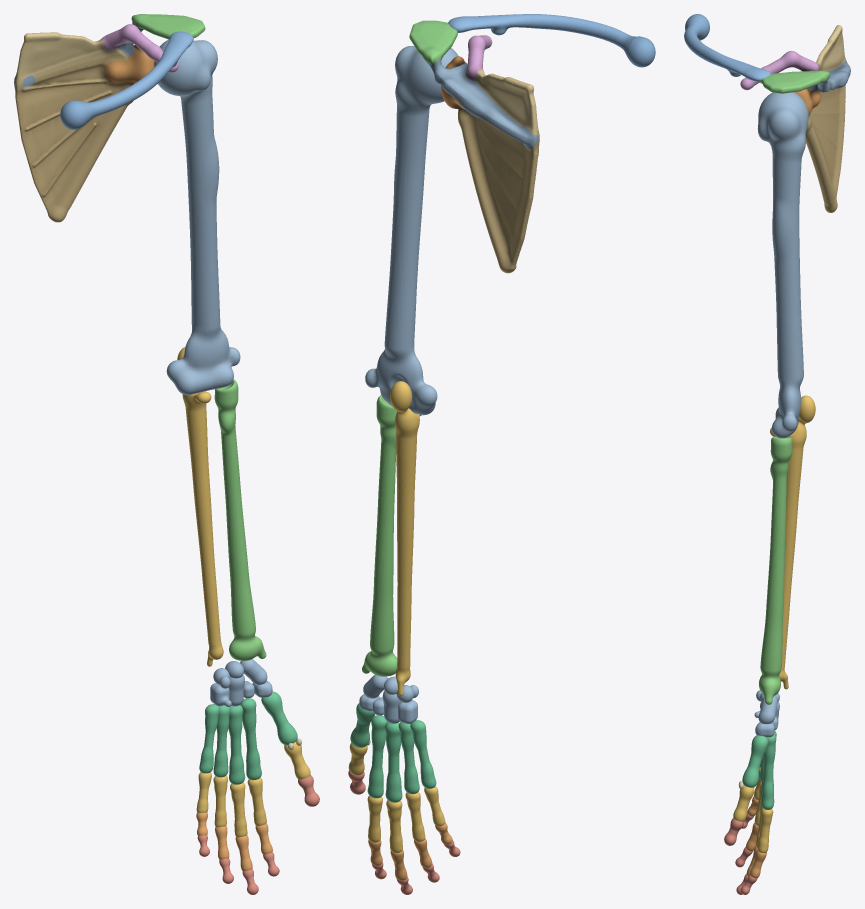
File: esqueleto-superior.glb
The picture shows the model from 3 angles, left to right: view 1: azimuth 30°, elevation 25°; view 2: azimuth 150°, elevation 25°; view 3: azimuth 270°, elevation 25°; orthographic projection. The views are drawn at different scales.
Parts seen in each view (by area): view 1: humerus_L, scapula_L_infraspinous_fossa, radius_L, ulna_L, scapula_L_supraspinous_fossa, clavicle_L, scapula_L_acromion, scapula_L_glenoid, scapula_L_coracoid, metacarpal_2_index_L, metacarpal_3_middle_L, metacarpal_1_thumb_L (+4 smaller); view 2: humerus_L, scapula_L_infraspinous_fossa, radius_L, ulna_L, clavicle_L, scapula_L_spine, scapula_L_supraspinous_fossa, scapula_L_acromion, metacarpal_2_index_L, metacarpal_3_middle_L, metacarpal_4_ring_L, metacarpal_5_little_L (+4 smaller); view 3: humerus_L, radius_L, scapula_L_infraspinous_fossa, ulna_L, clavicle_L, scapula_L_acromion, scapula_L_coracoid, scapula_L_supraspinous_fossa, metacarpal_2_index_L, metacarpal_1_thumb_L, scapula_L_spine, index_proximal_phalanx_L (+3 smaller).
Boxes of the visible parts, x1=… form: humerus_L: x1=154, y1=39, x2=240, y2=395; scapula_L_infraspinous_fossa: x1=14, y1=52, x2=132, y2=222; radius_L: x1=214, y1=379, x2=266, y2=660; ulna_L: x1=177, y1=347, x2=223, y2=666; scapula_L_supraspinous_fossa: x1=15, y1=32, x2=122, y2=85; clavicle_L: x1=60, y1=31, x2=193, y2=129; scapula_L_acromion: x1=131, y1=14, x2=205, y2=39; scapula_L_glenoid: x1=103, y1=45, x2=154, y2=85; scapula_L_coracoid: x1=101, y1=24, x2=178, y2=72; metacarpal_2_index_L: x1=240, y1=698, x2=261, y2=780; metacarpal_3_middle_L: x1=228, y1=705, x2=245, y2=784; metacarpal_1_thumb_L: x1=261, y1=691, x2=297, y2=745; humerus_L: x1=365, y1=46, x2=458, y2=415; scapula_L_infraspinous_fossa: x1=458, y1=107, x2=539, y2=273; radius_L: x1=362, y1=395, x2=397, y2=676; ulna_L: x1=390, y1=381, x2=421, y2=695; clavicle_L: x1=448, y1=14, x2=655, y2=67; scapula_L_spine: x1=426, y1=60, x2=538, y2=149; scapula_L_supraspinous_fossa: x1=475, y1=69, x2=539, y2=141; scapula_L_acromion: x1=409, y1=20, x2=457, y2=64; metacarpal_2_index_L: x1=367, y1=715, x2=387, y2=798; metacarpal_3_middle_L: x1=385, y1=722, x2=402, y2=802; metacarpal_4_ring_L: x1=398, y1=722, x2=419, y2=794; metacarpal_5_little_L: x1=410, y1=720, x2=436, y2=788; humerus_L: x1=757, y1=92, x2=808, y2=438; radius_L: x1=759, y1=437, x2=792, y2=704; scapula_L_infraspinous_fossa: x1=805, y1=84, x2=845, y2=212; ulna_L: x1=770, y1=395, x2=815, y2=689; clavicle_L: x1=684, y1=14, x2=771, y2=81; scapula_L_acromion: x1=760, y1=70, x2=830, y2=93; scapula_L_coracoid: x1=740, y1=51, x2=819, y2=90; scapula_L_supraspinous_fossa: x1=816, y1=25, x2=846, y2=71; metacarpal_2_index_L: x1=761, y1=734, x2=776, y2=809; metacarpal_1_thumb_L: x1=742, y1=735, x2=768, y2=787; scapula_L_spine: x1=809, y1=60, x2=850, y2=92; index_proximal_phalanx_L: x1=757, y1=808, x2=773, y2=852.
Bounding box in the file's own units: 0.2496 × 0.7569 × 0.1429.
